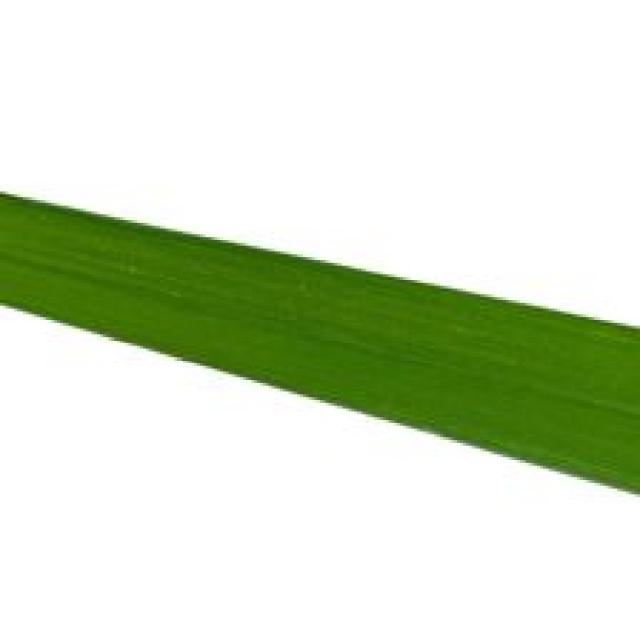Rice___Healthy_Rice_Plant: (0, 194, 637, 496)
